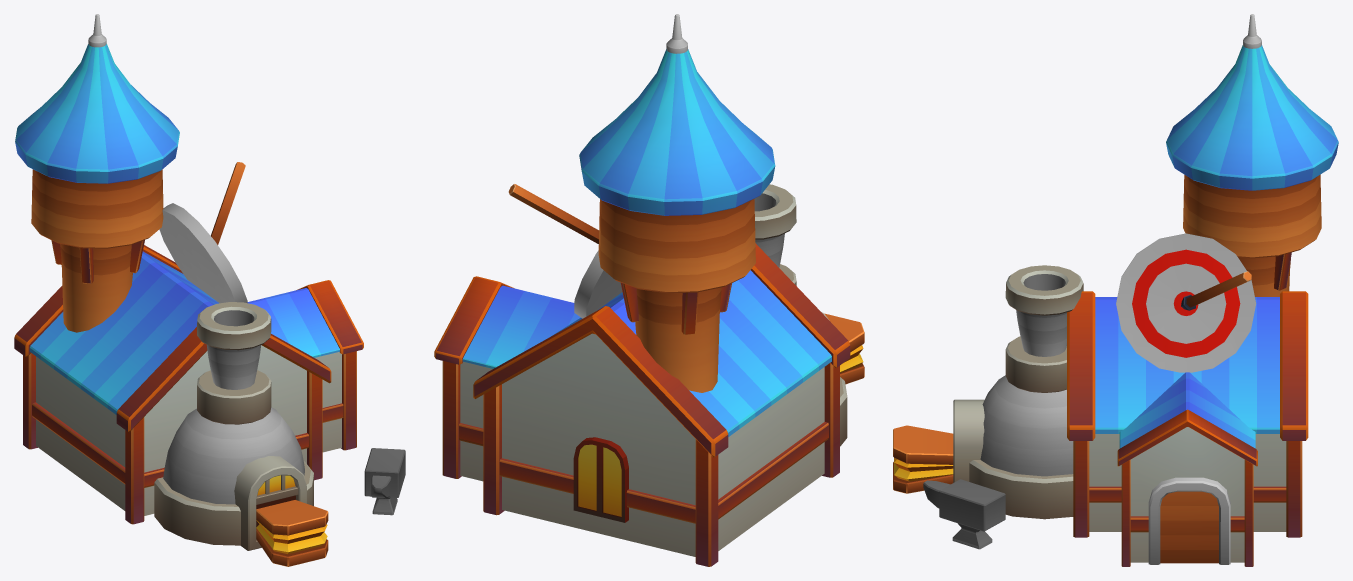
Rendered from Barrack_Archer_3.fbx.
3 renders of one model, left to right at view 1: azimuth 30°, elevation 25°; view 2: azimuth 150°, elevation 25°; view 3: azimuth 270°, elevation 25°, orthographic. The views are drawn at different scales.
Parts seen in each view (by area): view 1: Barrack_Archer_Lv3; view 2: Barrack_Archer_Lv3; view 3: Barrack_Archer_Lv3.
Boxes of the visible parts, box(x1,y1,x2,y2) form: Barrack_Archer_Lv3: box(14, 14, 405, 566); Barrack_Archer_Lv3: box(434, 14, 864, 566); Barrack_Archer_Lv3: box(893, 14, 1338, 566).
Bounding box in the file's own units: 1.09 × 1.66 × 1.48.
Materials: 1 (1 with a texture image).
